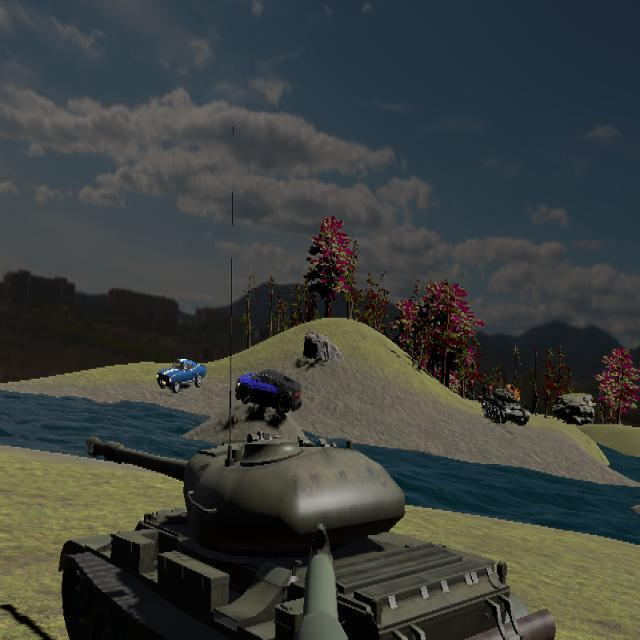Tank: (64, 435, 557, 640), (482, 387, 530, 427)
car: (235, 368, 302, 414), (157, 356, 207, 393)
